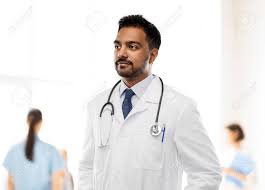Indian_Male: (107, 21, 156, 81)
